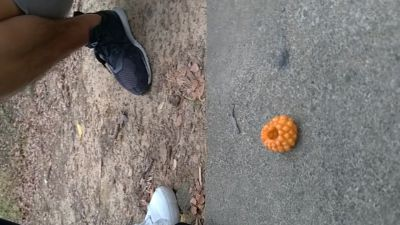eggs: (261, 115, 298, 152)
